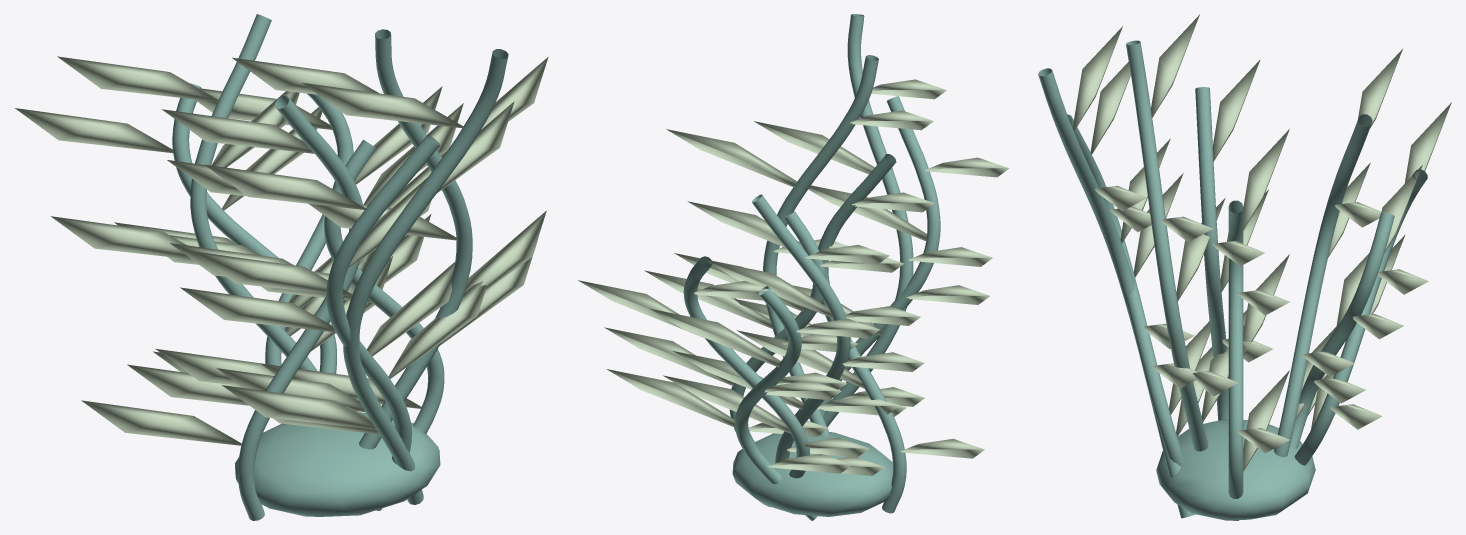
Rendered from bio_aquatic_frond_06_far.glb.
The picture shows the model from 3 angles, left to right: view 1: azimuth 30°, elevation 25°; view 2: azimuth 150°, elevation 25°; view 3: azimuth 270°, elevation 25°; orthographic projection. The views are drawn at different scales.
Visible parts, largest first — view 1: Holdfast, Ruffled aquatic blade.010, Ruffled aquatic blade.035, Ruffled aquatic blade.005, Ruffled aquatic blade.025, Ruffled aquatic blade.020, Flexible stipe.002, Ruffled aquatic blade.015, Flexible stipe.004, Ruffled aquatic blade.030, Flexible stipe.007, Flexible stipe.005 (+5 smaller); view 2: Holdfast, Ruffled aquatic blade.030, Ruffled aquatic blade.005, Ruffled aquatic blade.020, Ruffled aquatic blade.025, Ruffled aquatic blade.015, Ruffled aquatic blade.010, Ruffled aquatic blade.035, Flexible stipe.002, Ruffled aquatic blade, Flexible stipe.004, Flexible stipe.005 (+5 smaller); view 3: Holdfast, Flexible stipe.005, Flexible stipe.001, Ruffled aquatic blade, Ruffled aquatic blade.025, Flexible stipe, Flexible stipe.004, Flexible stipe.002, Ruffled aquatic blade.010, Ruffled aquatic blade.035, Ruffled aquatic blade.005, Flexible stipe.007 (+5 smaller).
Part boxes in pixels (box(x1,y1,x2,y2)): Holdfast: box(234, 412, 440, 516); Ruffled aquatic blade.010: box(191, 83, 514, 429); Ruffled aquatic blade.035: box(180, 164, 486, 434); Ruffled aquatic blade.005: box(50, 56, 367, 385); Ruffled aquatic blade.025: box(216, 56, 548, 412); Ruffled aquatic blade.020: box(81, 103, 463, 445); Flexible stipe.002: box(343, 49, 508, 504); Ruffled aquatic blade.015: box(127, 86, 442, 405); Flexible stipe.004: box(237, 95, 362, 520); Ruffled aquatic blade.030: box(15, 107, 431, 372); Flexible stipe.007: box(326, 135, 439, 510); Flexible stipe.005: box(359, 29, 472, 449); Holdfast: box(732, 432, 892, 516); Ruffled aquatic blade.030: box(606, 309, 879, 473); Ruffled aquatic blade.005: box(673, 244, 924, 457); Ruffled aquatic blade.020: box(687, 192, 984, 458); Ruffled aquatic blade.025: box(644, 110, 933, 414); Ruffled aquatic blade.015: box(578, 280, 884, 475); Ruffled aquatic blade.010: box(754, 79, 992, 406); Ruffled aquatic blade.035: box(735, 157, 1009, 416); Flexible stipe.002: box(823, 14, 913, 426); Ruffled aquatic blade: box(604, 253, 903, 436); Flexible stipe.004: box(818, 154, 906, 513); Flexible stipe.005: box(763, 55, 878, 436); Holdfast: box(1156, 419, 1315, 520); Flexible stipe.005: box(1126, 40, 1208, 451); Flexible stipe.001: box(1274, 114, 1372, 457); Ruffled aquatic blade: box(1237, 129, 1289, 471); Ruffled aquatic blade.025: box(1151, 14, 1244, 421); Flexible stipe: box(1228, 200, 1243, 520); Flexible stipe.004: box(1195, 87, 1228, 420); Flexible stipe.002: box(1038, 68, 1194, 518); Ruffled aquatic blade.010: box(1072, 26, 1210, 414); Ruffled aquatic blade.035: box(1090, 62, 1225, 436); Ruffled aquatic blade.005: box(1295, 49, 1402, 419); Flexible stipe.007: box(1067, 114, 1185, 467).
Size of the model in its own units: 1.79 by 1.89 by 1.56.
